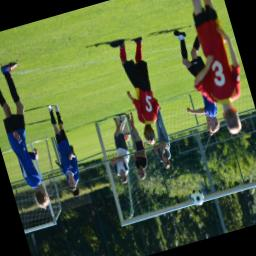football: (189, 186, 206, 207)
